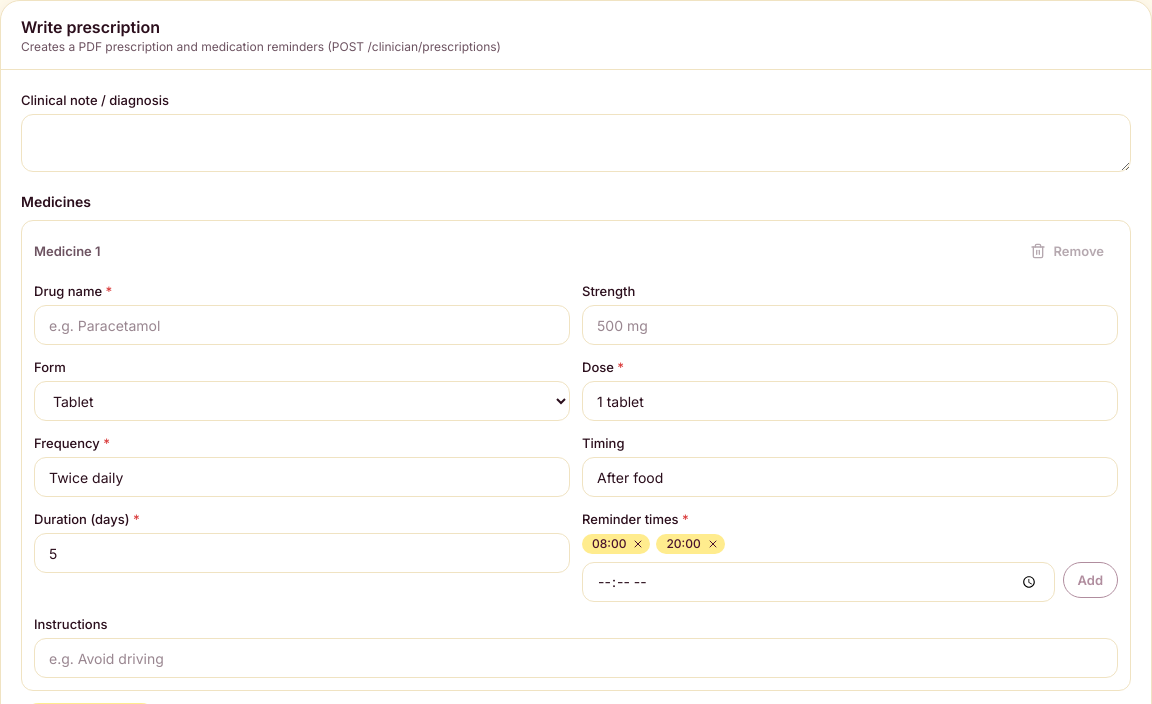
Test case: PrescriptionWriter › submits a valid row with the exact §31 payload
This screenshot has width=1152, height=704.
In the field labelled "Drug name *": (302,325) [34,305,570,345], type " Paracetamol "
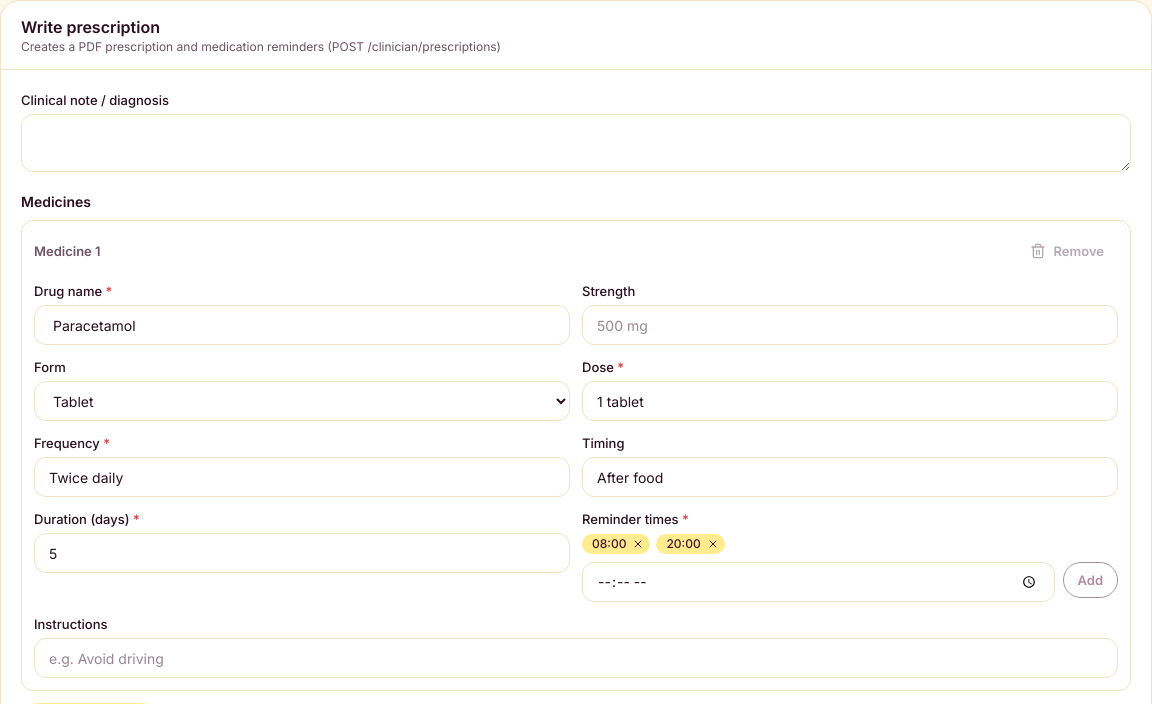
In the field labelled "Strength": (850,325) [582,305,1118,345], type "650 mg"
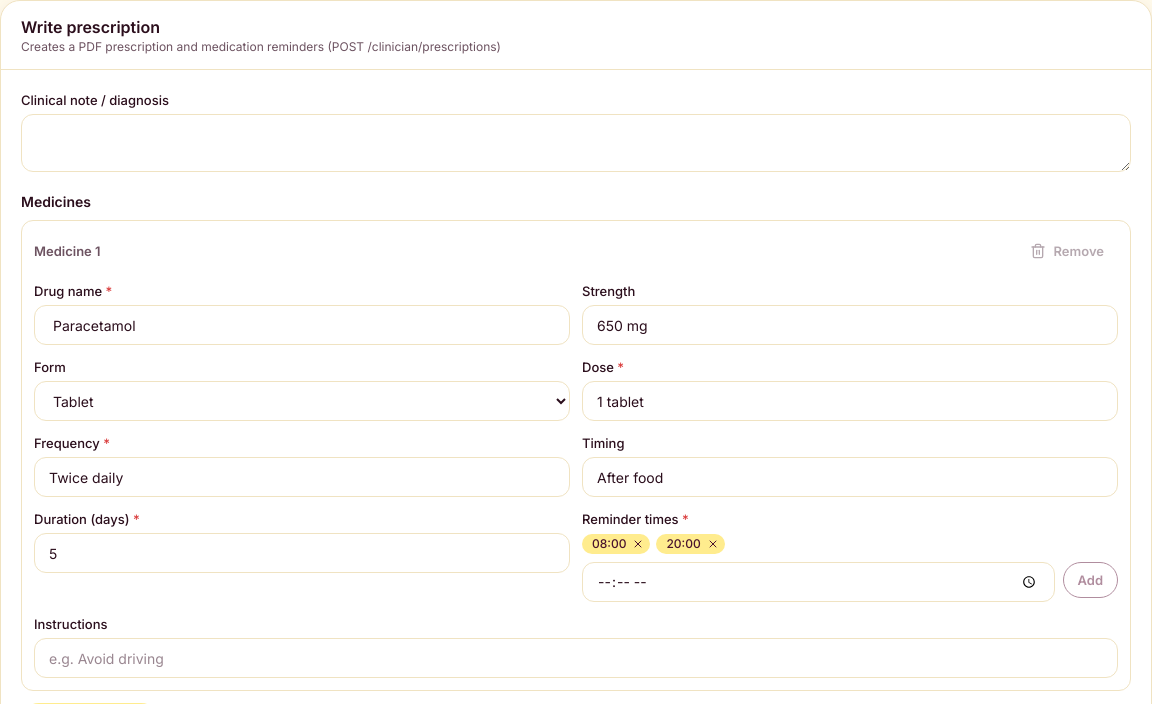
Replace the text in the number field labelled "Duration (days) *" with "3": (302,553) [34,533,570,573]
(page scrolled)
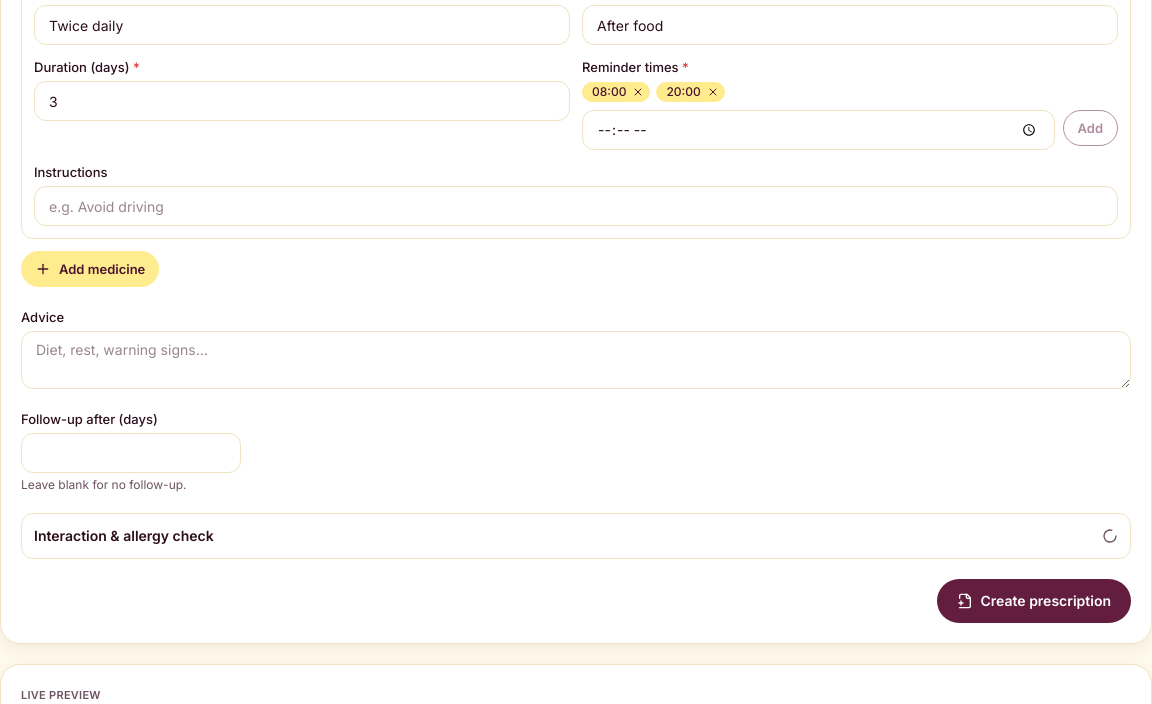
In the text box labelled "Advice": (576,360) [21,331,1131,389], type "Plenty of fluids"
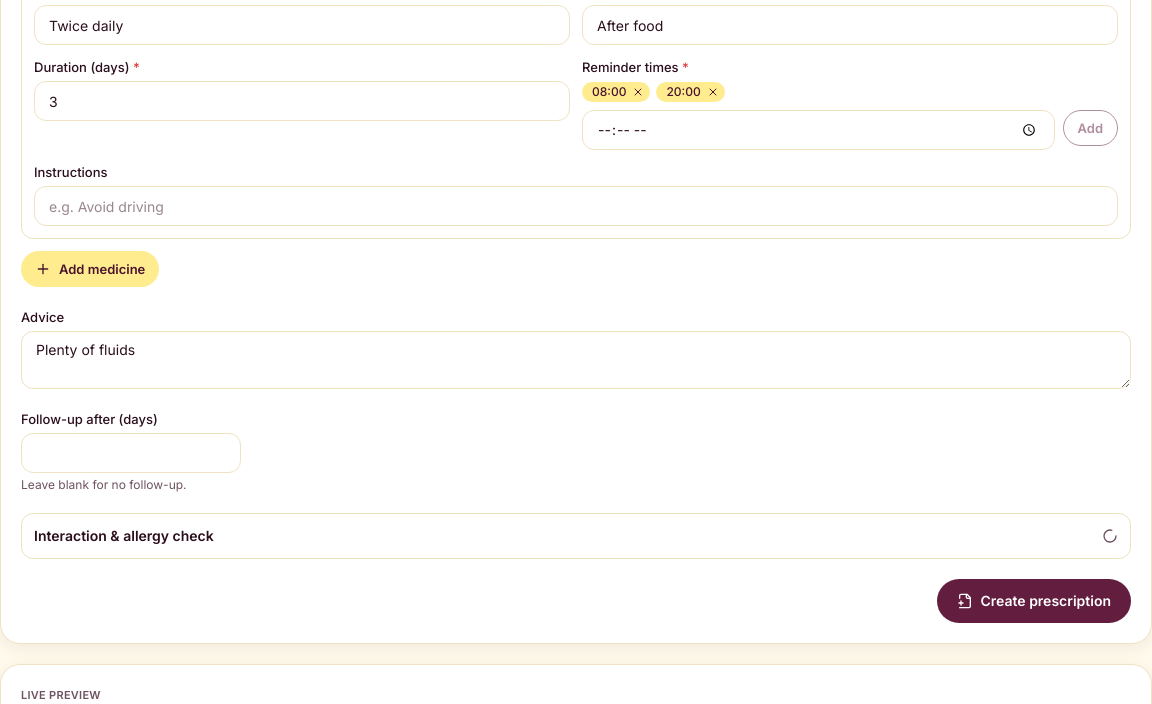
In the number field labelled "Follow-up after (days)": (131,453) [21,433,241,473], type "5"
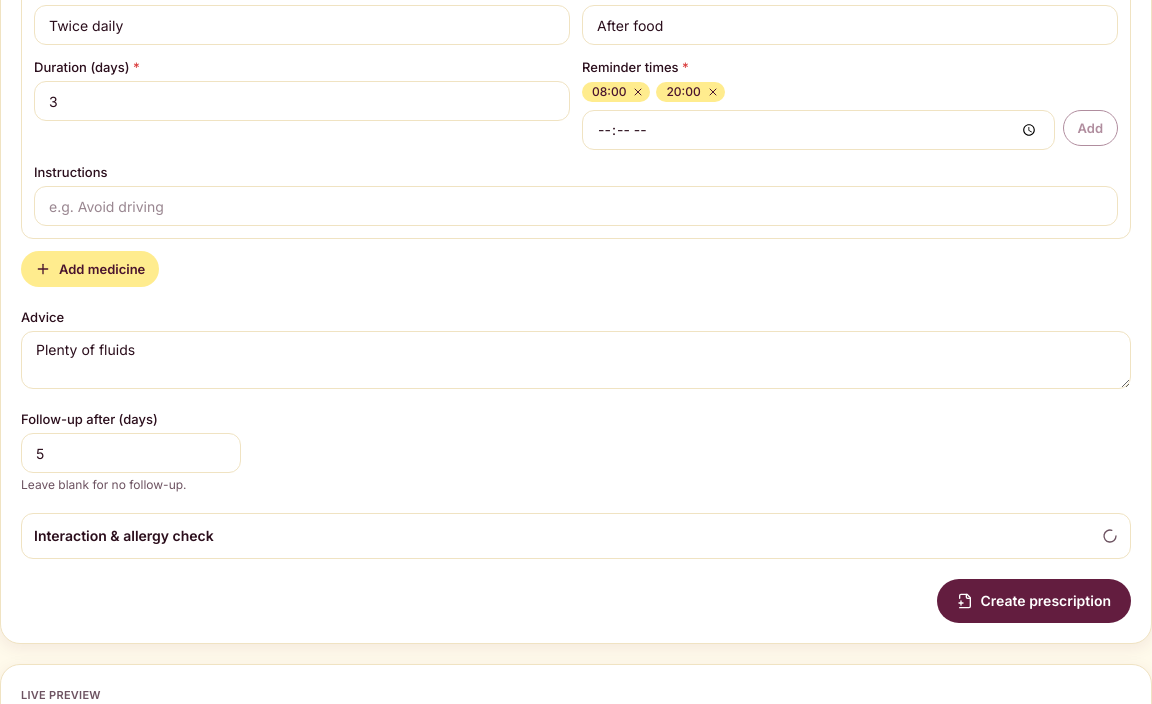
Click the button "Create prescription": (1034,601) [936,579,1131,623]
(page scrolled)
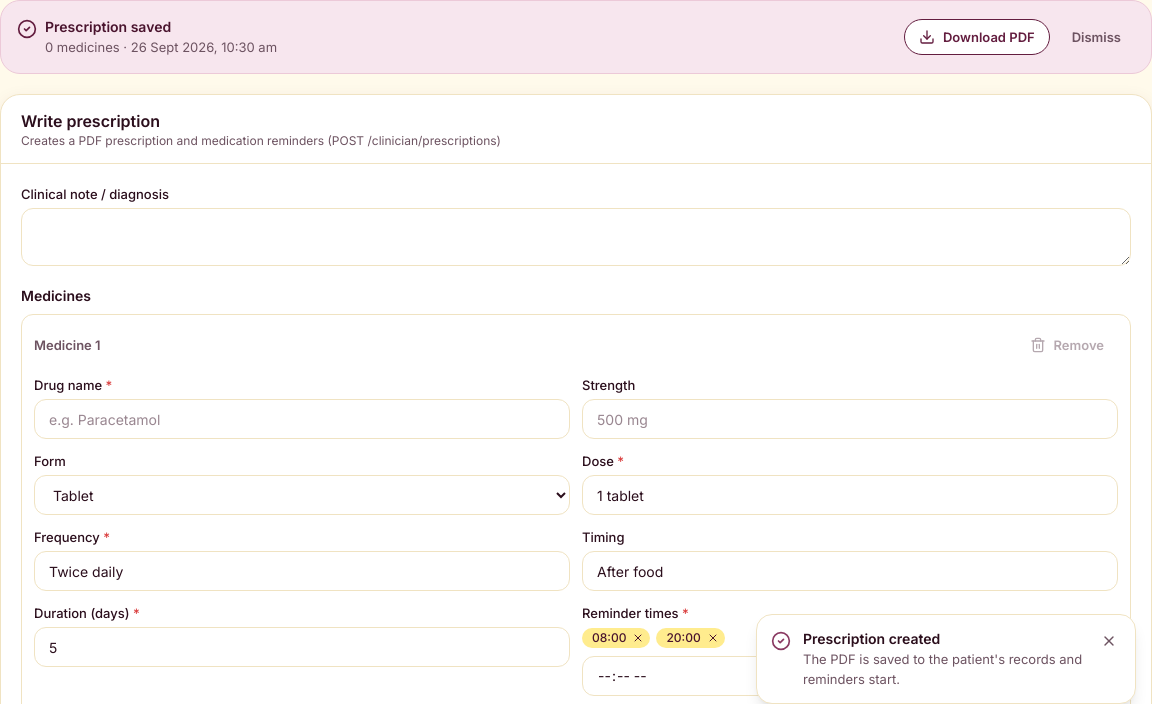
Now the text "Prescription saved" is shown, box [45,18,171,35]
Now the button "Download PDF" is shown, box [904,19,1050,55]
